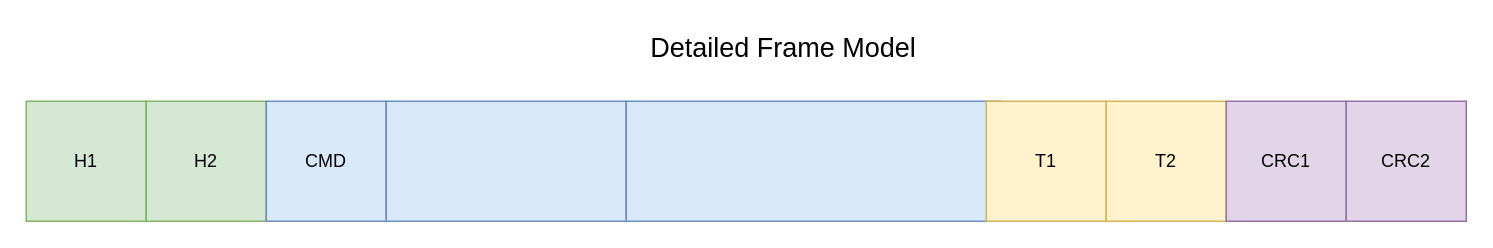
Some shapes in this 1493 by 248 pixel diagram are drawn without their labels. Here are the shapes that lost their labels. From the top down, the box of each, then its label:
(385, 100, 626, 221): n-byte DATA Length
(625, 100, 1001, 221): n-byte Data
